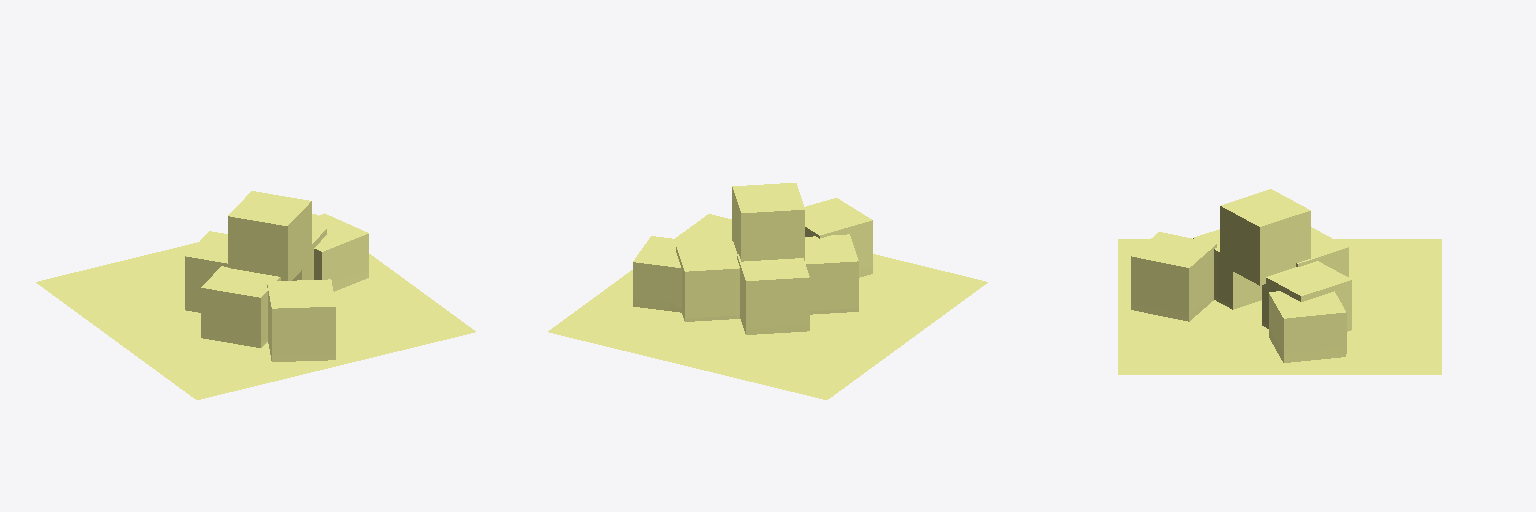
The picture shows the model from 3 angles: view 1: azimuth 30°, elevation 25°; view 2: azimuth 150°, elevation 25°; view 3: azimuth 270°, elevation 25°; orthographic projection.
Parts seen in each view (by area): view 1: out; view 2: out; view 3: out.
Part boxes in pixels (bbox=[...]): out: bbox=[36, 191, 475, 399]; out: bbox=[548, 183, 987, 399]; out: bbox=[1118, 189, 1441, 374].
Bounding box in the file's own units: 10 × 3.49 × 10.